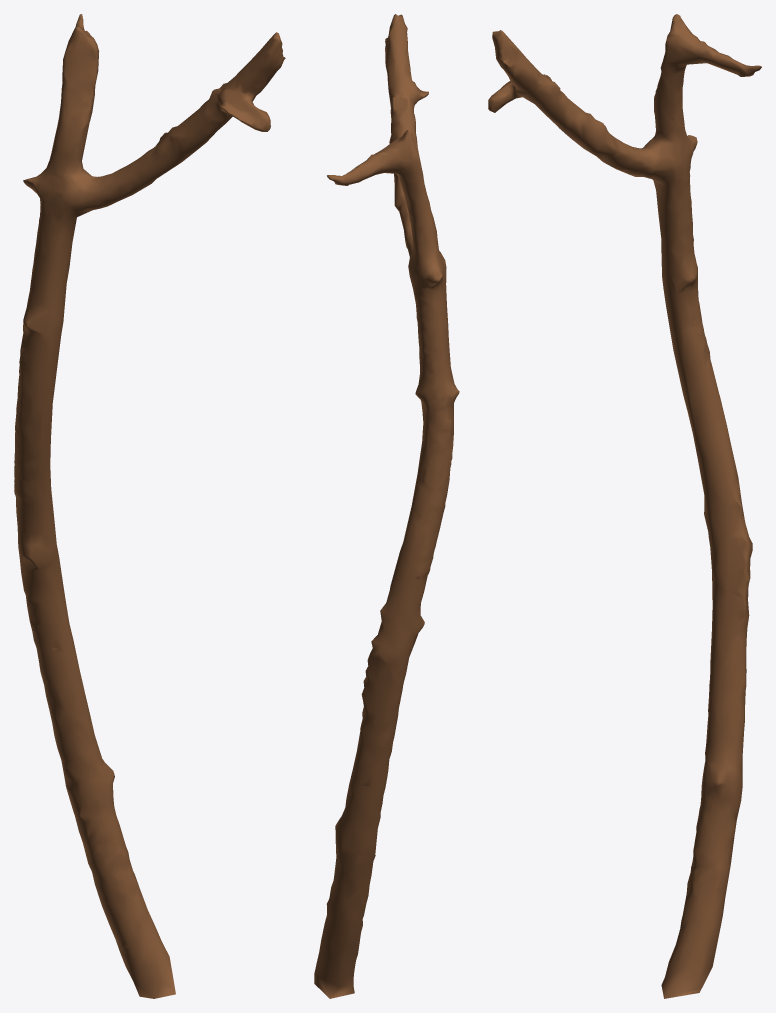
Rendered from stick_interactable.fbx.
3 views of the same model, side by side, from view 1: azimuth 30°, elevation 25°; view 2: azimuth 150°, elevation 25°; view 3: azimuth 270°, elevation 25° (orthographic). The views are drawn at different scales.
Parts seen in each view (by area): view 1: stick_interactable; view 2: stick_interactable; view 3: stick_interactable.
Boxes of the visible parts, x1,y1,x2,y2 form: stick_interactable: (14,14,285,998); stick_interactable: (314,14,459,998); stick_interactable: (488,14,761,998).
Size of the model in its own units: 21.23 by 121 by 30.78.
